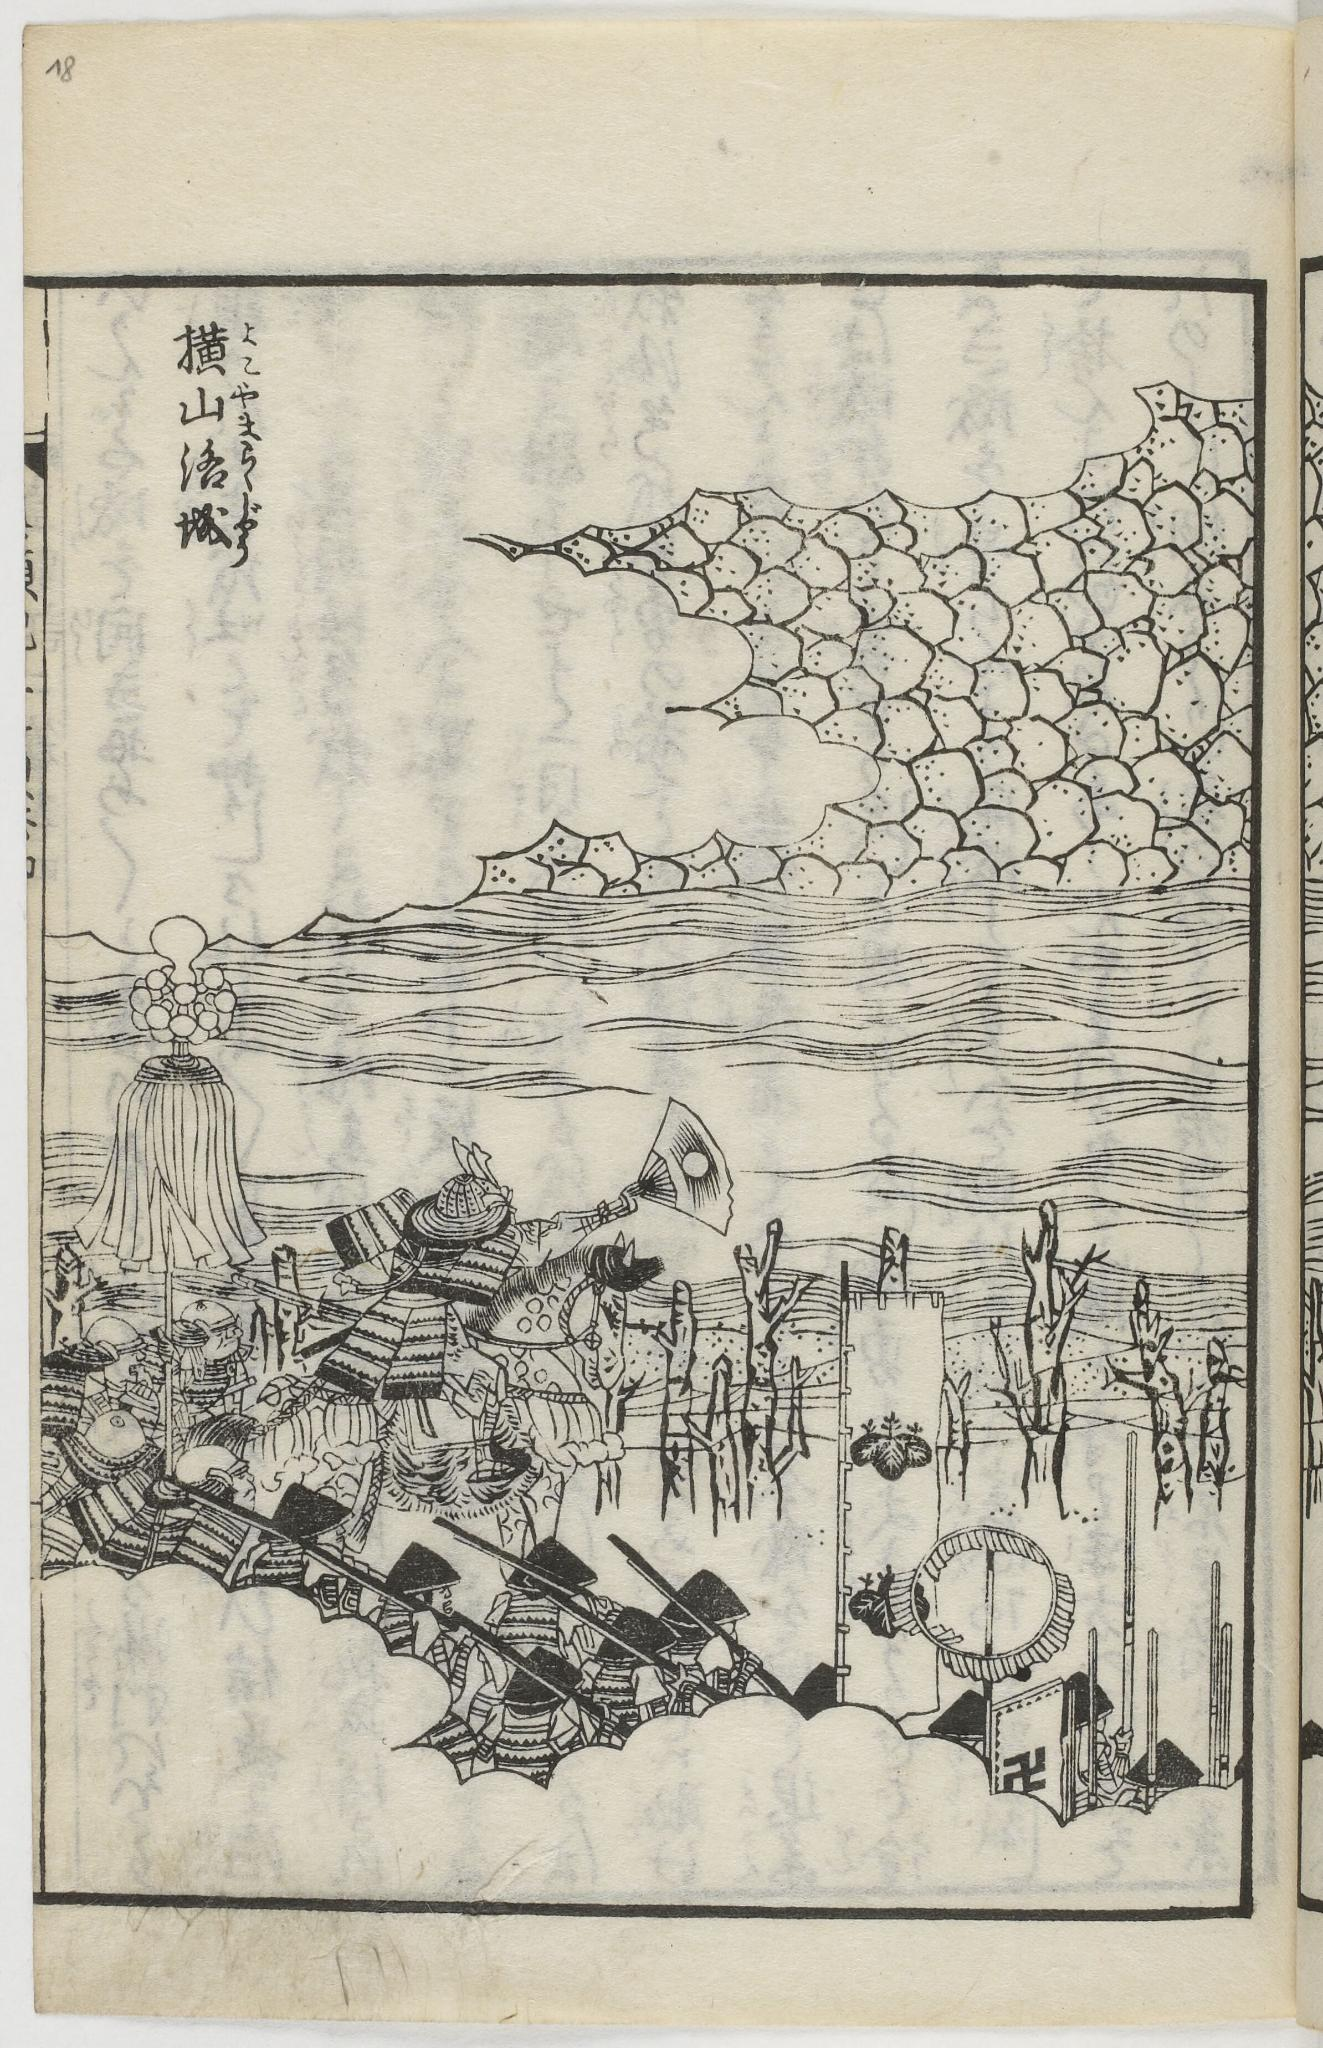MainZone-Character: (172, 493, 270, 570), (173, 381, 273, 440), (175, 319, 264, 381), (173, 440, 263, 493)
MainZone-Ruby: (231, 496, 264, 566), (228, 379, 261, 437), (237, 324, 264, 378), (234, 442, 258, 490)
